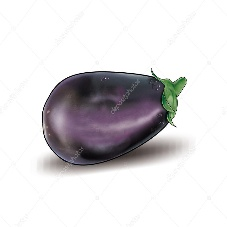eggplant: (40, 70, 179, 168)
